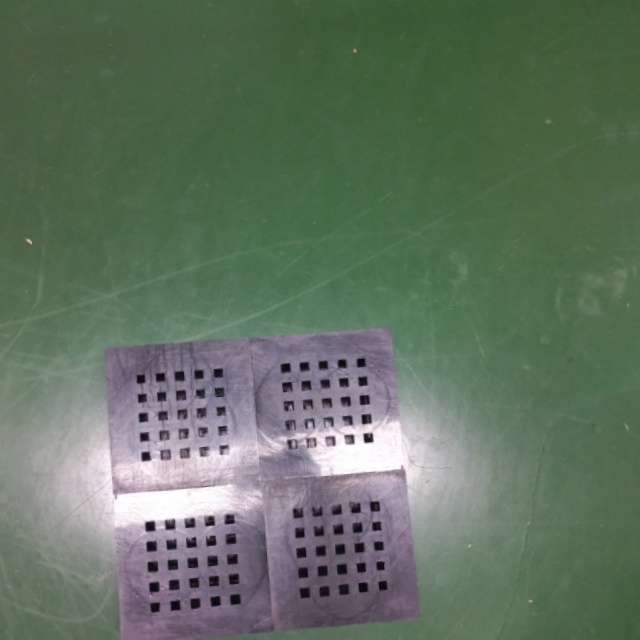pallet: (99, 324, 421, 640)
